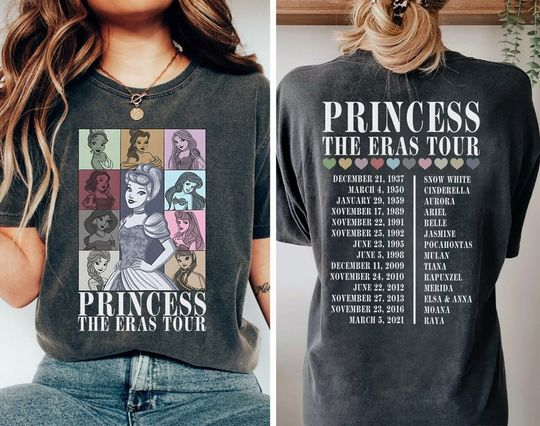design: (320, 98, 482, 325), (76, 126, 208, 333)
